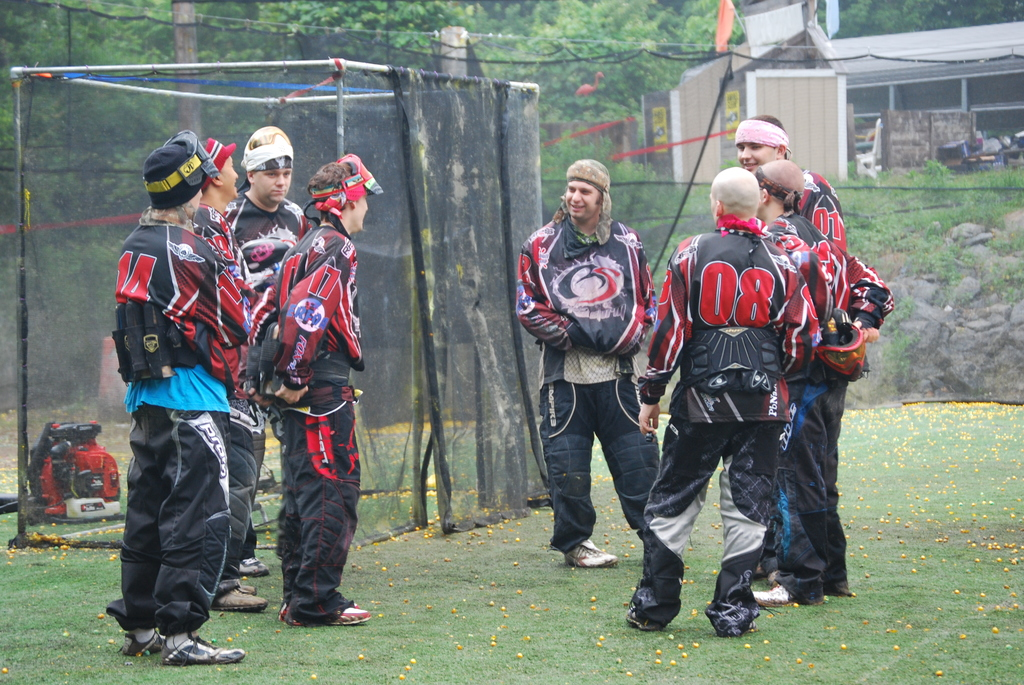Person: (104, 129, 249, 668), (623, 167, 782, 631), (244, 154, 382, 625), (748, 160, 895, 597), (734, 115, 859, 594), (514, 160, 659, 570), (221, 126, 314, 573), (189, 134, 271, 605)
